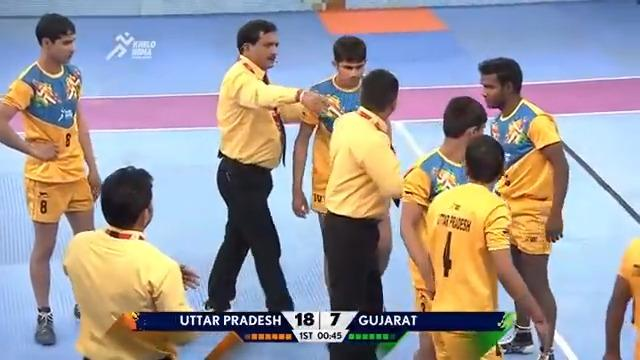Player: (0, 11, 102, 345), (412, 133, 548, 359), (476, 56, 570, 358), (399, 95, 489, 358), (291, 34, 372, 308), (601, 236, 639, 359)
referee: (202, 18, 332, 314), (61, 164, 200, 359), (322, 68, 404, 358)
